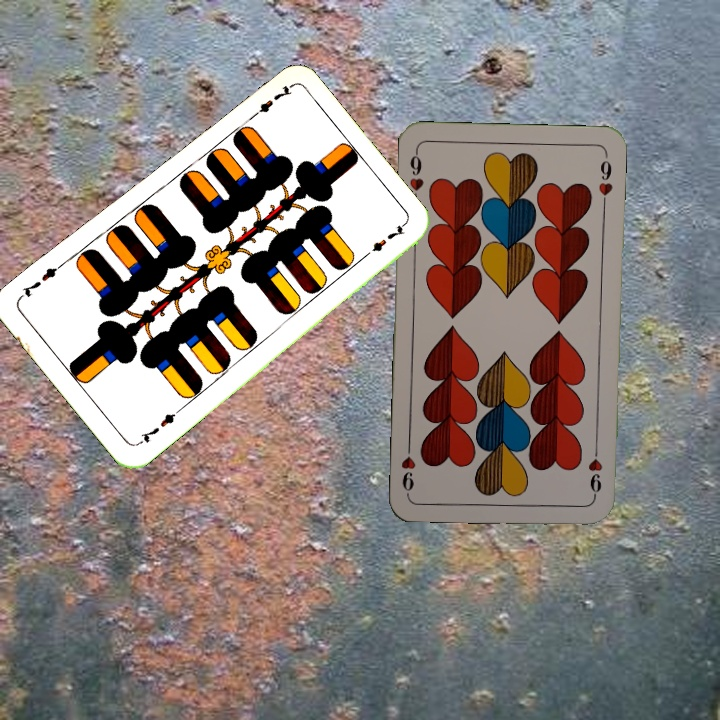E7: (133, 405, 183, 448), (244, 81, 294, 124)
H9: (405, 146, 426, 205), (584, 441, 605, 500)
